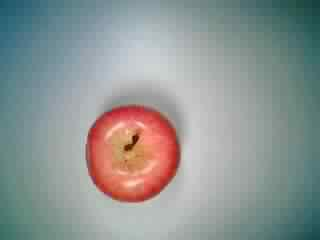apple: (80, 100, 184, 204)
